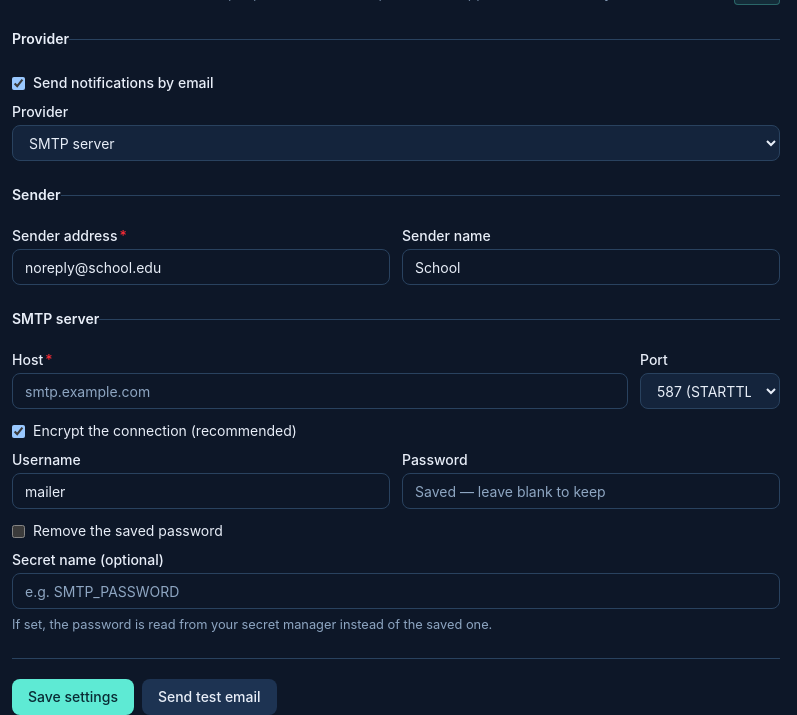
IntegrationsPage › marks required fields and blocks saving without a host
The width and height of the screenshot is (797, 715).
(page scrolled)
Check: the field labelled "Host" is empty, box 12,373 -> 628,409
Click the button "Save settings". click: [73, 697]
box: 12,679 -> 134,714
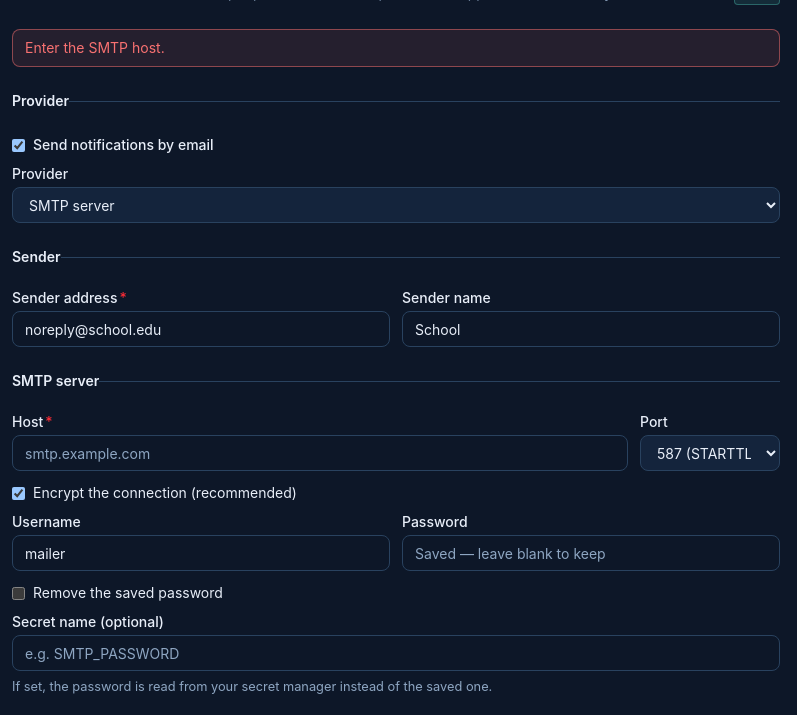
Check: the message reads "Enter the SMTP host.", box 25,39 -> 165,56
